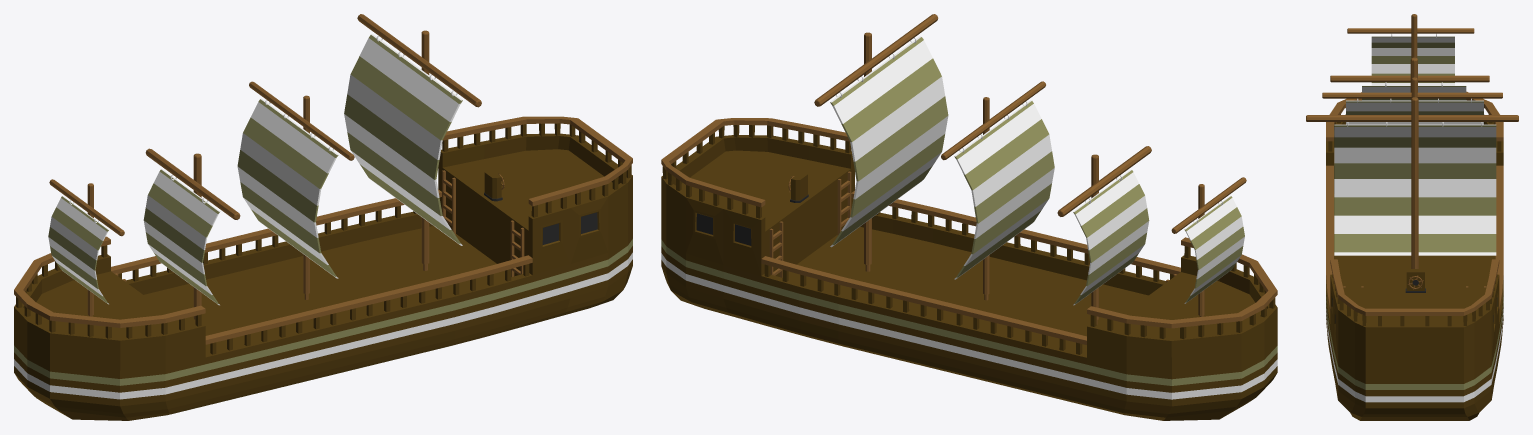
File: Ship_A13.fbx
3 renders of one model, left to right at view 1: azimuth 30°, elevation 25°; view 2: azimuth 150°, elevation 25°; view 3: azimuth 270°, elevation 25°, orthographic. The views are drawn at different scales.
Visible parts, largest first — view 1: Ship_A13; view 2: Ship_A13; view 3: Ship_A13.
Part boxes in pixels (<box>): Ship_A13: <box>14,14,632,420</box>; Ship_A13: <box>661,14,1277,420</box>; Ship_A13: <box>1306,14,1518,420</box>.
Size of the model in its own units: 16.19 by 7.5 by 5.76.
